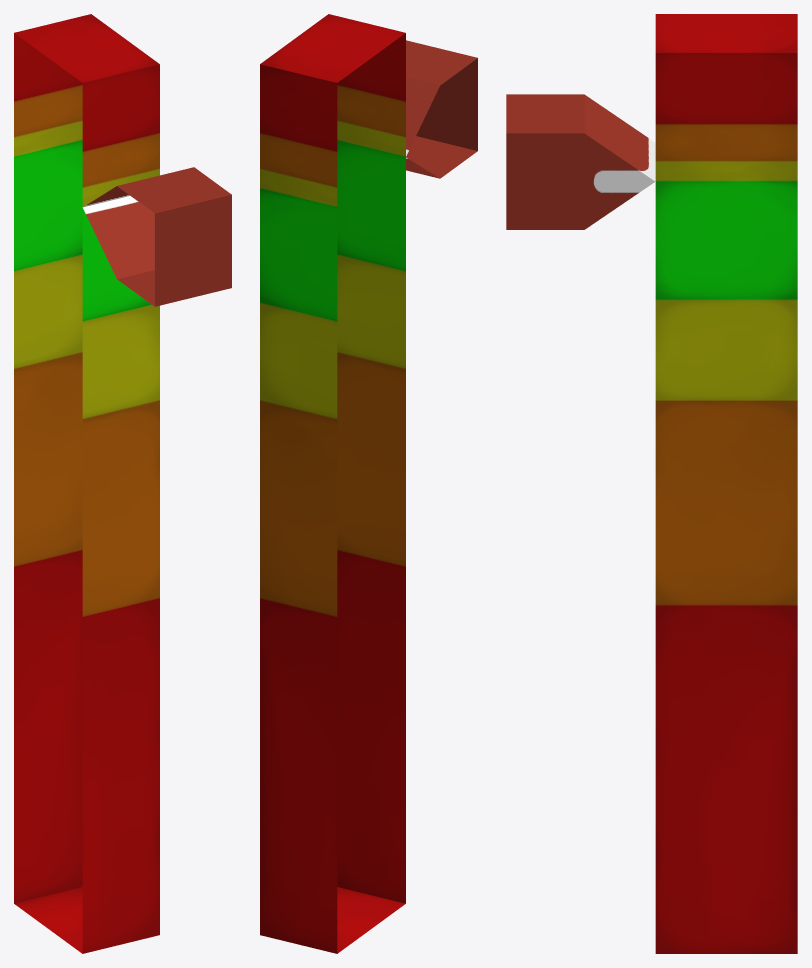
File: fillbar2.gltf
3 views of the same model, side by side, from view 1: azimuth 30°, elevation 25°; view 2: azimuth 150°, elevation 25°; view 3: azimuth 270°, elevation 25° (orthographic). The views are drawn at different scales.
Visible parts, largest first — view 1: Cube.001; view 2: Cube.001; view 3: Cube.001.
Boxes of the visible parts, x1=… form: Cube.001: x1=14, y1=14, x2=231, y2=953; Cube.001: x1=260, y1=14, x2=477, y2=953; Cube.001: x1=506, y1=14, x2=797, y2=953.
Bounding box in the file's own units: 0.13 × 1.4 × 0.41.
